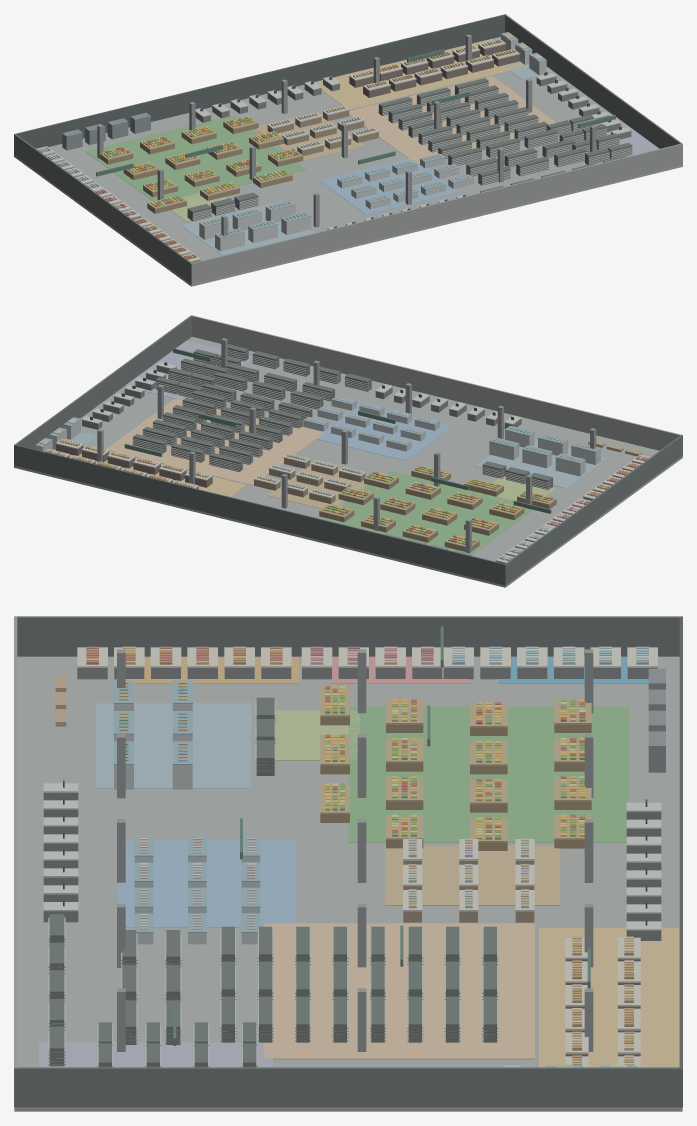
Rendered from yh-large-concept.glb.
3 views of the same model, one above another, from view 1: azimuth 30°, elevation 25°; view 2: azimuth 150°, elevation 25°; view 3: azimuth 270°, elevation 25° (orthographic). The views are drawn at different scales.
Parts seen in each view (by area): view 1: SHELL__floor_000001, SHELL__frontwall_000003, SHELL__backwall_000002, SHELL__zone-floor-stripe_000009, SHELL__sidewall_000004, SHELL__sidewall_000005, SHELL__zone-floor-stripe_000015, SHELL__zone-floor-stripe_000014, SHELL__zone-floor-stripe_000013, SHELL__zone-floor-stripe_000010, SHELL__zone-floor-stripe_000012, SHELL__zone-floor-stripe_000016 (+2 smaller); view 2: SHELL__floor_000001, SHELL__backwall_000002, SHELL__frontwall_000003, SHELL__zone-floor-stripe_000009, SHELL__sidewall_000004, SHELL__zone-floor-stripe_000015, SHELL__sidewall_000005, SHELL__zone-floor-stripe_000013, SHELL__zone-floor-stripe_000010, SHELL__zone-floor-stripe_000012, SHELL__zone-floor-stripe_000016, SHELL__zone-floor-stripe_000014 (+2 smaller); view 3: SHELL__floor_000001, SHELL__sidewall_000005, SHELL__zone-floor-stripe_000015, SHELL__zone-floor-stripe_000009, SHELL__sidewall_000004, SHELL__zone-floor-stripe_000014, SHELL__zone-floor-stripe_000013, SHELL__zone-floor-stripe_000010, SHELL__zone-floor-stripe_000012, SHELL__zone-floor-stripe_000016, SHELL__zone-floor-stripe_000011, SHELL__frontwall_000003 (+5 smaller).
Part boxes in pixels (x1=…): SHELL__floor_000001: x1=14, y1=36, x2=682, y2=286; SHELL__frontwall_000003: x1=191, y1=143, x2=682, y2=284; SHELL__backwall_000002: x1=14, y1=14, x2=505, y2=148; SHELL__zone-floor-stripe_000009: x1=85, y1=115, x2=306, y2=201; SHELL__sidewall_000004: x1=14, y1=134, x2=192, y2=283; SHELL__sidewall_000005: x1=505, y1=15, x2=681, y2=148; SHELL__zone-floor-stripe_000015: x1=349, y1=76, x2=555, y2=164; SHELL__zone-floor-stripe_000014: x1=315, y1=38, x2=527, y2=109; SHELL__zone-floor-stripe_000013: x1=319, y1=158, x2=460, y2=214; SHELL__zone-floor-stripe_000010: x1=181, y1=203, x2=313, y2=255; SHELL__zone-floor-stripe_000012: x1=255, y1=112, x2=364, y2=161; SHELL__zone-floor-stripe_000016: x1=558, y1=114, x2=659, y2=164; SHELL__floor_000001: x1=14, y1=337, x2=682, y2=587; SHELL__backwall_000002: x1=14, y1=444, x2=505, y2=585; SHELL__frontwall_000003: x1=191, y1=315, x2=682, y2=450; SHELL__zone-floor-stripe_000009: x1=323, y1=470, x2=532, y2=555; SHELL__sidewall_000004: x1=505, y1=435, x2=682, y2=584; SHELL__zone-floor-stripe_000015: x1=106, y1=397, x2=324, y2=485; SHELL__sidewall_000005: x1=15, y1=315, x2=191, y2=449; SHELL__zone-floor-stripe_000013: x1=313, y1=403, x2=452, y2=460; SHELL__zone-floor-stripe_000010: x1=475, y1=440, x2=607, y2=488; SHELL__zone-floor-stripe_000012: x1=266, y1=461, x2=368, y2=508; SHELL__zone-floor-stripe_000016: x1=124, y1=340, x2=252, y2=399; SHELL__zone-floor-stripe_000014: x1=54, y1=445, x2=246, y2=496; SHELL__floor_000001: x1=14, y1=656, x2=682, y2=1111; SHELL__sidewall_000005: x1=14, y1=1067, x2=682, y2=1107; SHELL__zone-floor-stripe_000015: x1=263, y1=923, x2=534, y2=1059; SHELL__zone-floor-stripe_000009: x1=348, y1=706, x2=629, y2=842; SHELL__sidewall_000004: x1=14, y1=616, x2=682, y2=656; SHELL__zone-floor-stripe_000014: x1=539, y1=927, x2=679, y2=1067; SHELL__zone-floor-stripe_000013: x1=118, y1=840, x2=295, y2=927; SHELL__zone-floor-stripe_000010: x1=96, y1=703, x2=250, y2=788; SHELL__zone-floor-stripe_000012: x1=385, y1=845, x2=560, y2=905; SHELL__zone-floor-stripe_000016: x1=39, y1=1042, x2=272, y2=1067; SHELL__zone-floor-stripe_000011: x1=276, y1=710, x2=359, y2=760; SHELL__frontwall_000003: x1=14, y1=616, x2=17, y2=1106.
Size of the model in its own units: 80.05 by 5.36 by 50.05.
